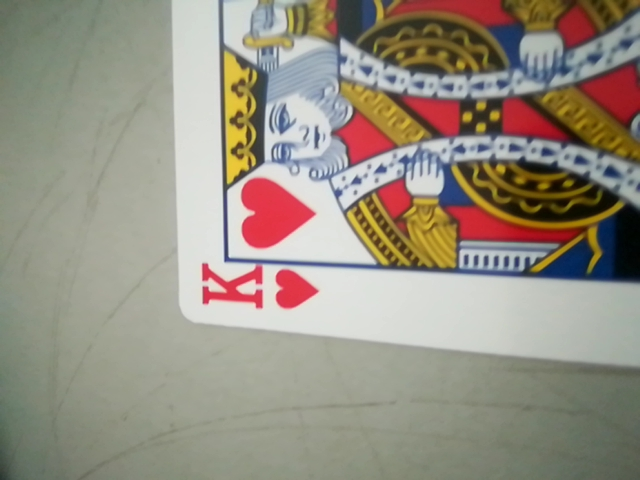hx k: (194, 257, 319, 321)
